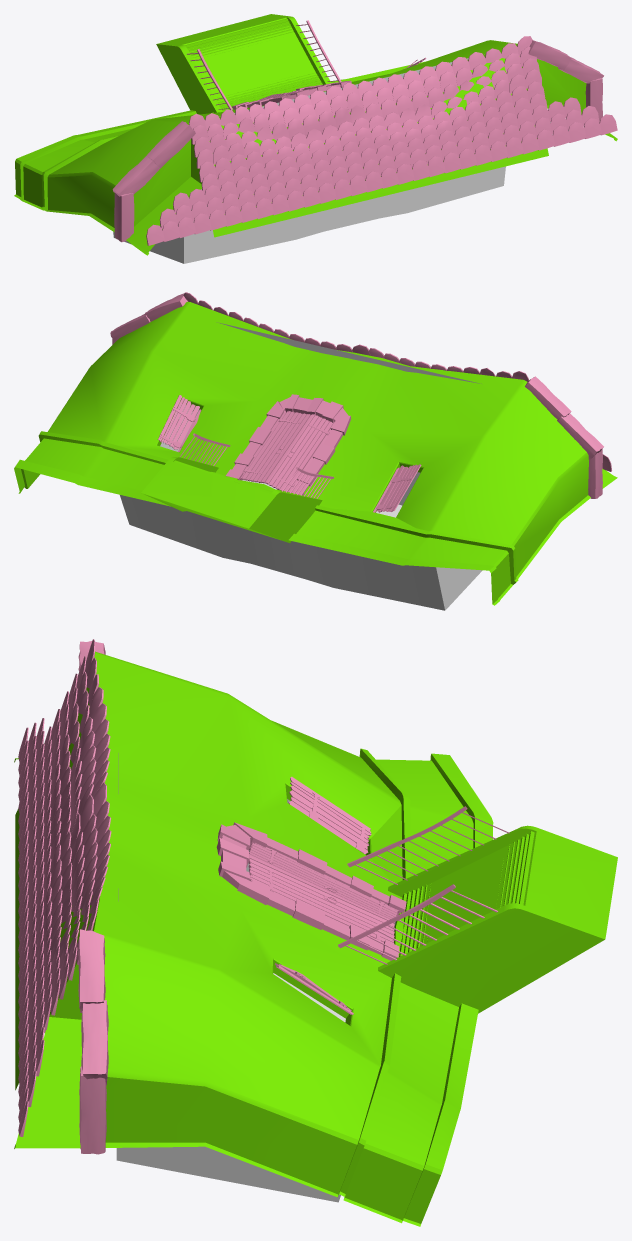
File: HouseCut Collapsed.fbx
3 renders of one model, top to bottom at view 1: azimuth 30°, elevation 25°; view 2: azimuth 150°, elevation 25°; view 3: azimuth 270°, elevation 25°, orthographic. The views are drawn at different scales.
Parts seen in each view (by area): view 1: Roof Tiling.001, MainBuilding.001, InteriorMain, Edge Cubes.001, StepsHandles.001, DoorRockFrame.001; view 2: MainBuilding.001, InteriorMain, Door.001, DoorRockFrame.001, Edge Cubes.001, Roof Tiling.001, ShuttersFront.001, StepsHandles.001; view 3: MainBuilding.001, Roof Tiling.001, Edge Cubes.001, DoorRockFrame.001, Door.001, InteriorMain, StepsHandles.001, ShuttersFront.001.
Boxes of the visible parts, box(x1,y1,x2,y2) form: Roof Tiling.001: box(146, 36, 617, 245); MainBuilding.001: box(14, 14, 617, 255); InteriorMain: box(113, 54, 505, 263); Edge Cubes.001: box(112, 40, 603, 242); StepsHandles.001: box(187, 20, 341, 110); DoorRockFrame.001: box(232, 80, 351, 109); MainBuilding.001: box(14, 301, 617, 605); InteriorMain: box(120, 322, 482, 610); Door.001: box(238, 410, 333, 491); DoorRockFrame.001: box(225, 394, 351, 495); Edge Cubes.001: box(110, 292, 603, 498); Roof Tiling.001: box(183, 292, 611, 471); ShuttersFront.001: box(158, 395, 421, 512); StepsHandles.001: box(180, 433, 333, 498); MainBuilding.001: box(14, 651, 617, 1226); Roof Tiling.001: box(18, 639, 111, 1136); Edge Cubes.001: box(78, 641, 108, 1154); DoorRockFrame.001: box(216, 822, 406, 960); Door.001: box(248, 842, 399, 943); InteriorMain: box(116, 753, 395, 1202); StepsHandles.001: box(338, 806, 509, 964); ShuttersFront.001: box(275, 776, 371, 1014).
Bounding box in the file's own units: 291 × 107 × 185.
